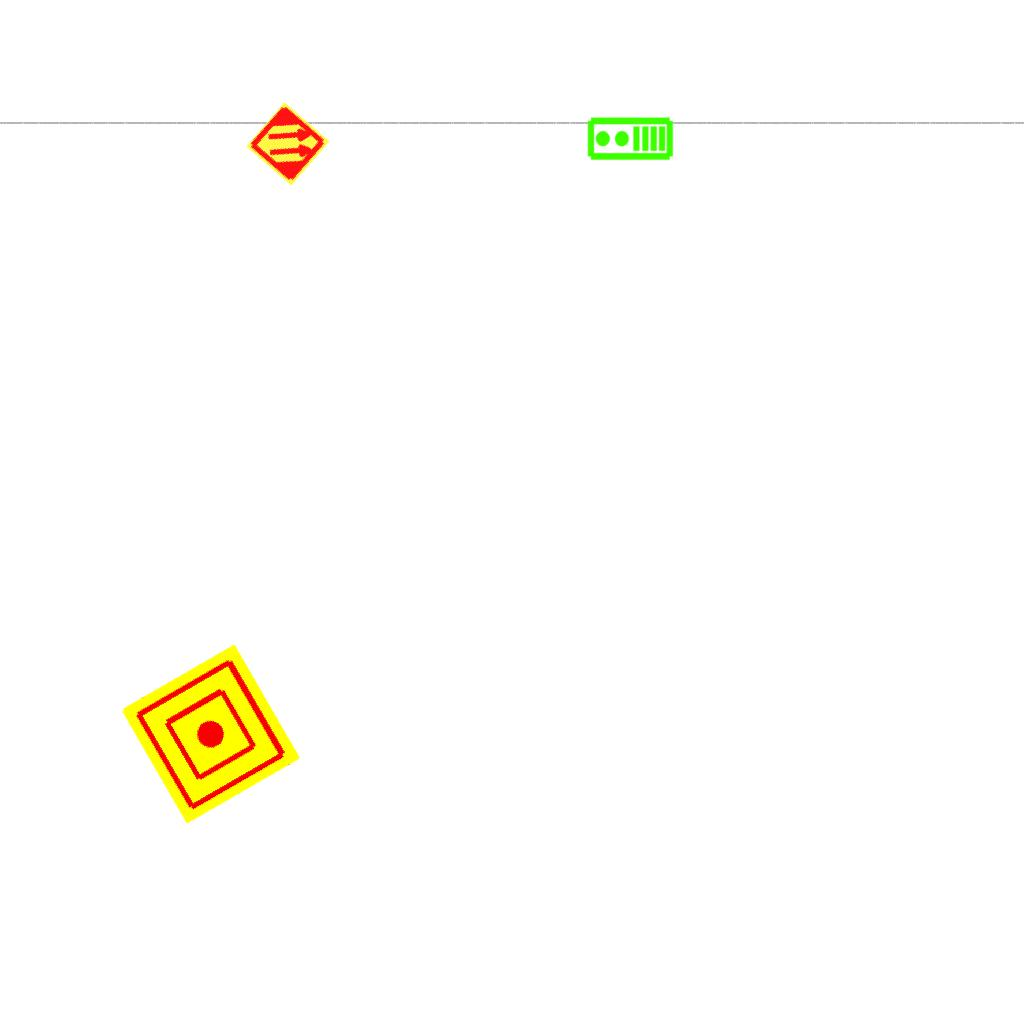ASR_Ansaugrauchmelder: (244, 100, 332, 188)
Gegensprechanlage_mit_Video: (586, 116, 674, 163)
NAM-Nichtautomatischer_Melder: (120, 643, 302, 825)
